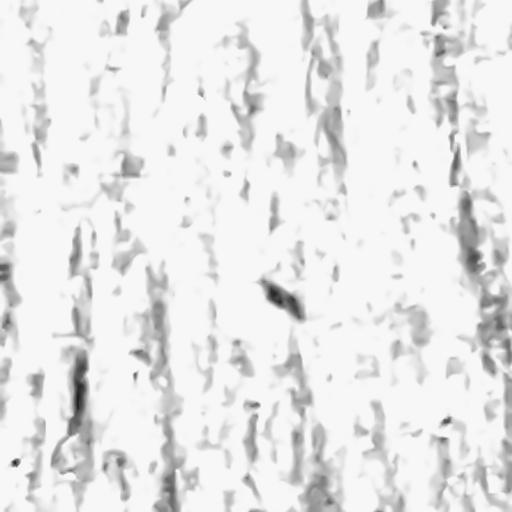egg: (259, 278, 304, 320)
